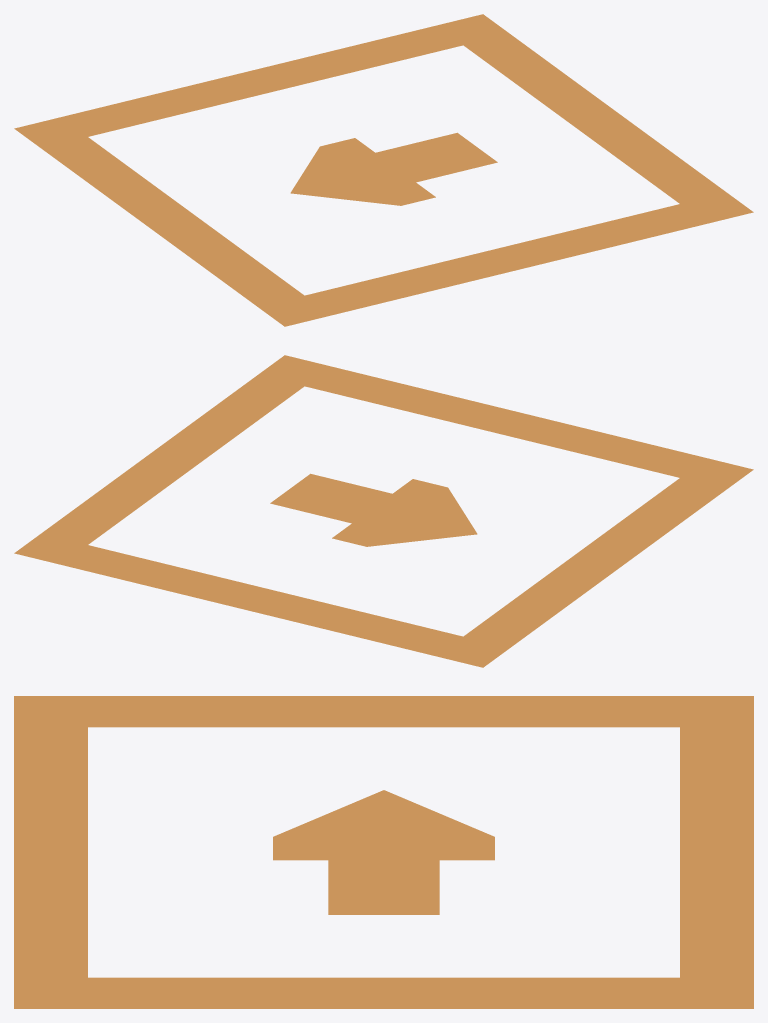
Rendered from indicator-special-arrow.glb.
3 renders of one model, top to bottom at view 1: azimuth 30°, elevation 25°; view 2: azimuth 150°, elevation 25°; view 3: azimuth 270°, elevation 25°, orthographic. The views are drawn at different scales.
Parts seen in each view (by area): view 1: indicator-special-arrow; view 2: indicator-special-arrow; view 3: indicator-special-arrow.
Boxes of the visible parts, x1,y1,x2,y2 form: indicator-special-arrow: (14, 14, 753, 326); indicator-special-arrow: (14, 355, 753, 667); indicator-special-arrow: (14, 696, 753, 1008).
Size of the model in its own units: 1 by 0 by 1.
1 material, 1 textured.
